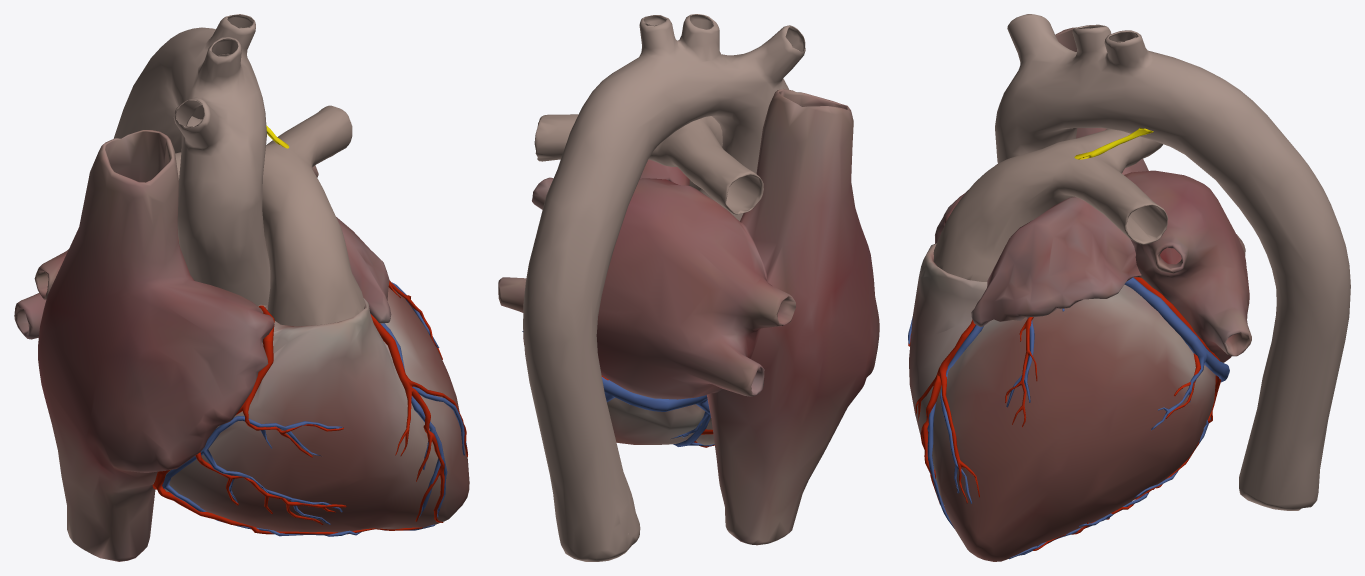
The model's file is heart.glb.
3 views of the same model, side by side, from view 1: azimuth 30°, elevation 25°; view 2: azimuth 150°, elevation 25°; view 3: azimuth 270°, elevation 25° (orthographic). The views are drawn at different scales.
Visible parts, largest first — view 1: Hart_basis, Aorta, Pulmonary_trunk, Arteries2, Veins, Heartear; view 2: Hart_basis, Aorta, Pulmonary_trunk, Veins, Heartear; view 3: Hart_basis, Aorta, Pulmonary_trunk, Heartear, Veins, Arteries2.
Boxes of the visible parts, x1,y1,x2,y2 form: Hart_basis: (14,130,469,561); Aorta: (114,14,270,305); Pulmonary_trunk: (175,105,364,326); Arteries2: (152,281,467,534); Veins: (162,282,467,536); Heartear: (336,217,391,323); Hart_basis: (498,89,879,545); Aorta: (523,14,805,561); Pulmonary_trunk: (534,114,763,214); Veins: (522,331,714,446); Heartear: (640,159,689,185); Hart_basis: (909,27,1251,561); Aorta: (995,14,1350,510); Pulmonary_trunk: (933,129,1167,281); Heartear: (971,196,1141,326); Veins: (908,277,1229,559); Arteries2: (908,277,1221,550).
Bounding box in the file's own units: 2.82 × 3.9 × 3.2.
